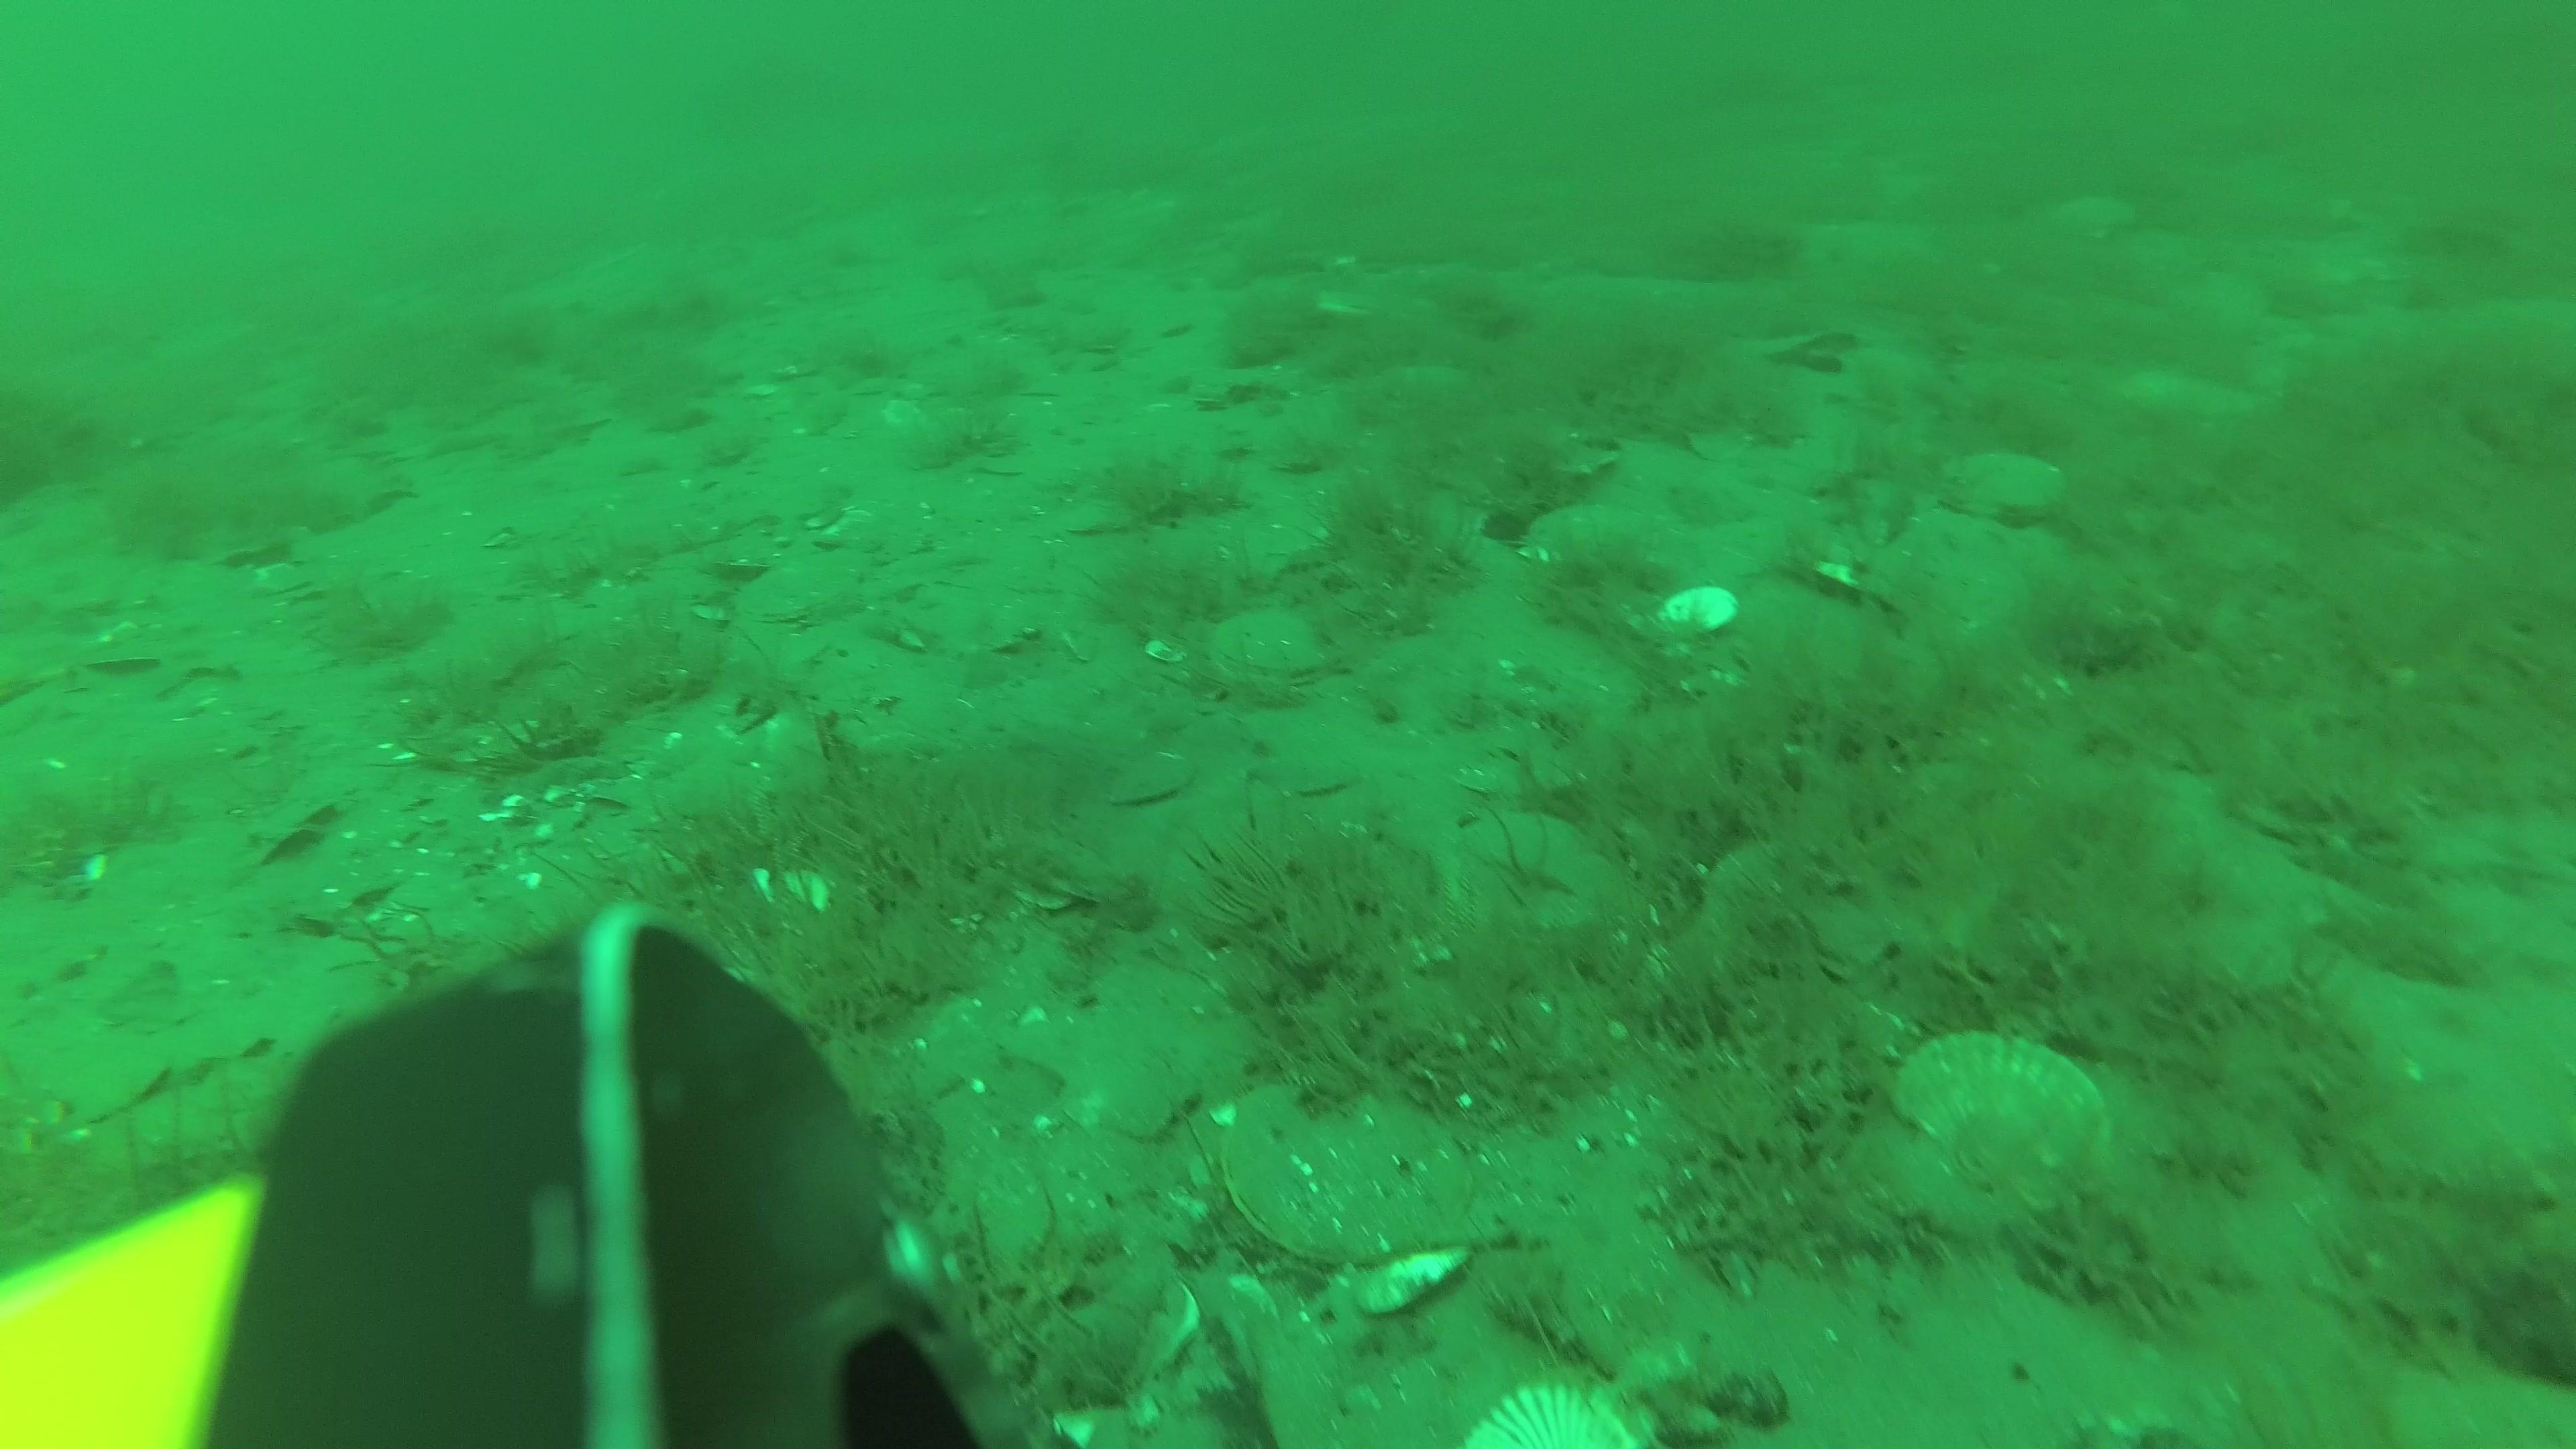scallop: (1207, 1054, 1483, 1269), (1893, 1021, 2107, 1208), (1698, 835, 1893, 996), (1203, 605, 1357, 697), (731, 541, 872, 632), (1474, 1384, 1640, 1449), (1944, 439, 2066, 525), (1445, 747, 1589, 819), (1506, 506, 1660, 570), (1522, 421, 1633, 485), (1111, 747, 1201, 814), (1667, 478, 1762, 531), (2054, 186, 2132, 244), (1654, 582, 1736, 633), (1279, 752, 1355, 805)
